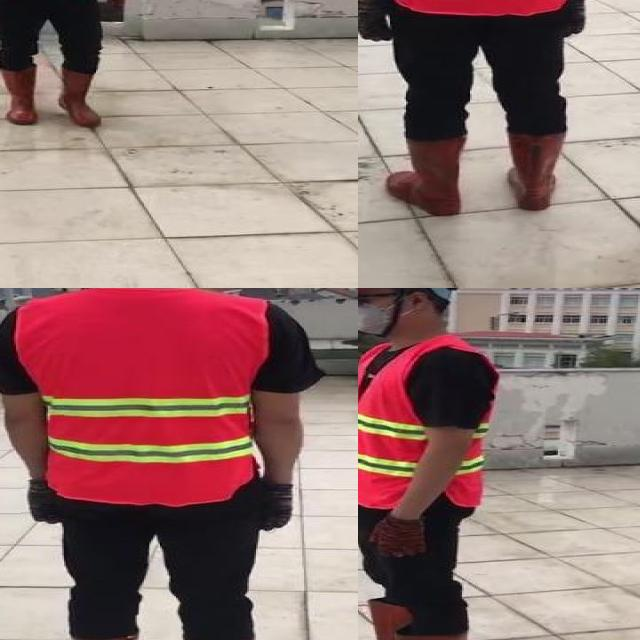boots: (384, 138, 466, 216), (506, 130, 568, 212), (60, 66, 108, 128), (0, 66, 42, 125), (358, 600, 410, 640)
face_mask: (358, 289, 402, 335)
glasses: (358, 288, 384, 309)
hand_glove: (368, 516, 428, 557), (358, 0, 399, 43), (263, 482, 295, 532), (25, 482, 57, 523), (557, 0, 585, 37), (106, 0, 128, 12)
person: (0, 288, 336, 640), (358, 0, 622, 218), (358, 288, 505, 640), (0, 0, 137, 131)
vest: (16, 288, 265, 506), (358, 338, 492, 510)
